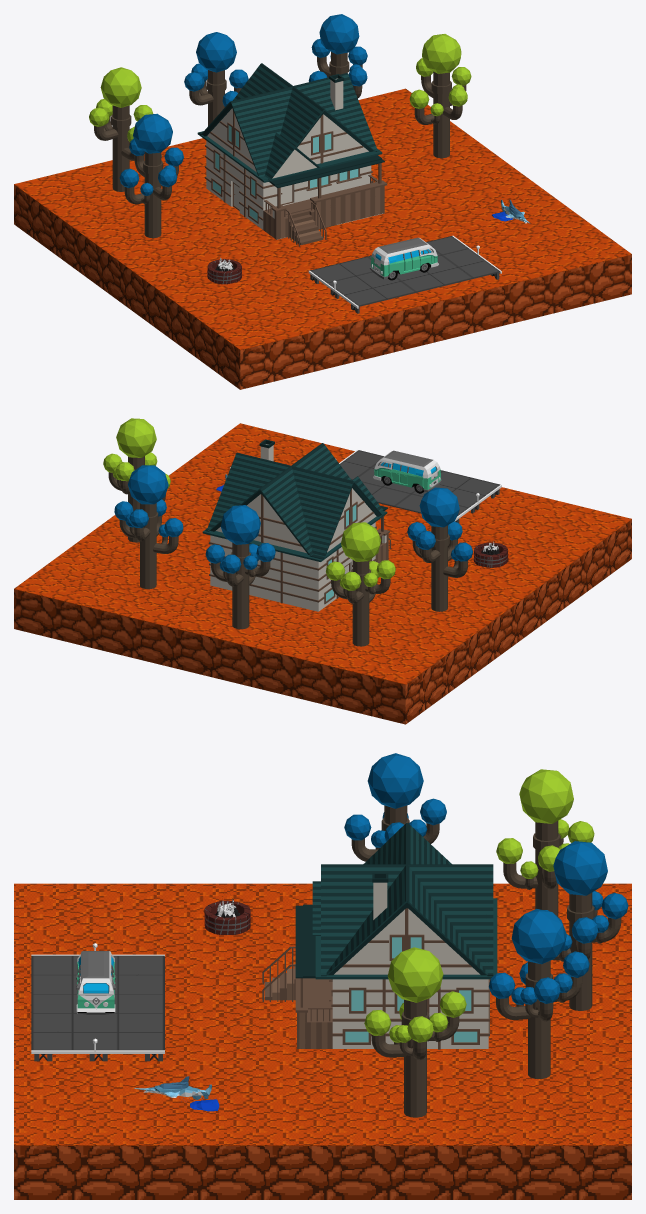
3 views of the same model, one above another, from view 1: azimuth 30°, elevation 25°; view 2: azimuth 150°, elevation 25°; view 3: azimuth 270°, elevation 25° (orthographic). The views are drawn at different scales.
Parts seen in each view (by area): view 1: Cube.001, Cube.793, VEHICLES_VAN, OBJRANDOM_CAMPFIRE; view 2: Cube.001, Cube.793, VEHICLES_VAN, OBJRANDOM_CAMPFIRE; view 3: Cube.001, Cube.793, VEHICLES_VAN, OBJRANDOM_CAMPFIRE, ANIMAL_PEZ_ESPADA.
Boxes of the visible parts, <box> form: Cube.001: <box>14,14,631,389</box>; Cube.793: <box>197,63,387,246</box>; VEHICLES_VAN: <box>369,237,438,280</box>; OBJRANDOM_CAMPFIRE: <box>207,257,241,284</box>; Cube.001: <box>14,418,631,724</box>; Cube.793: <box>202,439,390,611</box>; VEHICLES_VAN: <box>373,450,442,493</box>; OBJRANDOM_CAMPFIRE: <box>473,541,508,567</box>; Cube.001: <box>14,753,631,1199</box>; Cube.793: <box>262,823,497,1049</box>; VEHICLES_VAN: <box>76,951,116,1014</box>; OBJRANDOM_CAMPFIRE: <box>204,896,250,934</box>; ANIMAL_PEZ_ESPADA: <box>134,1076,219,1111</box>.
Bounding box in the file's own units: 4000 × 1765 × 4000.
Materials: 32 (5 with a texture image).
